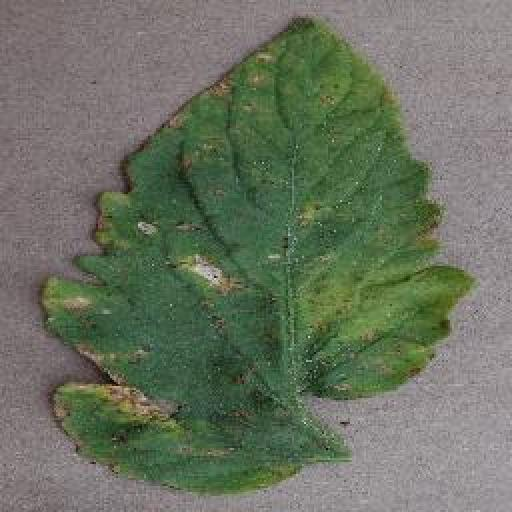Bacterial Spot: (40, 11, 480, 500)
